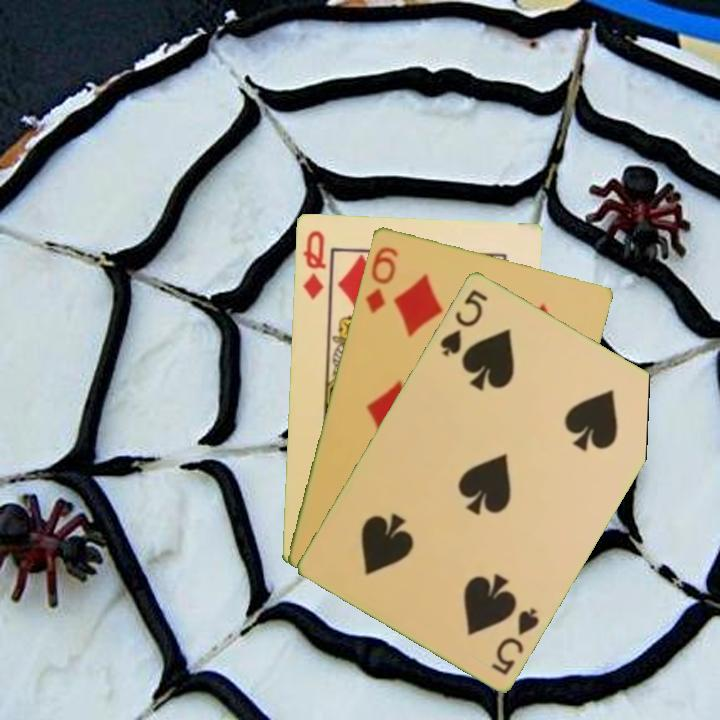5s: (436, 285, 491, 359), (488, 603, 542, 678)
6d: (361, 242, 401, 316)
Qd: (299, 226, 328, 302)
